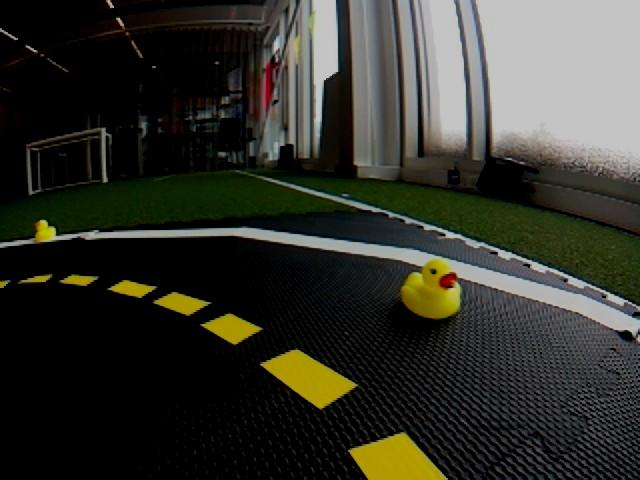Duckies: (398, 260, 462, 321), (33, 219, 55, 242)
